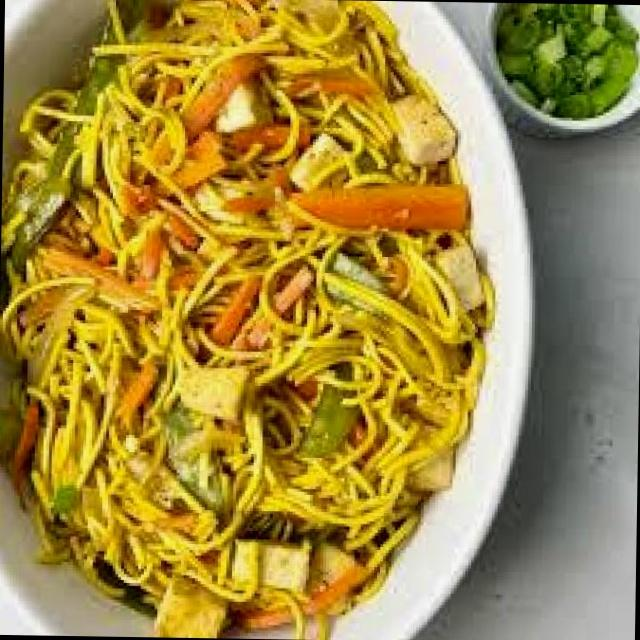pancit bihon: (0, 0, 488, 639)
